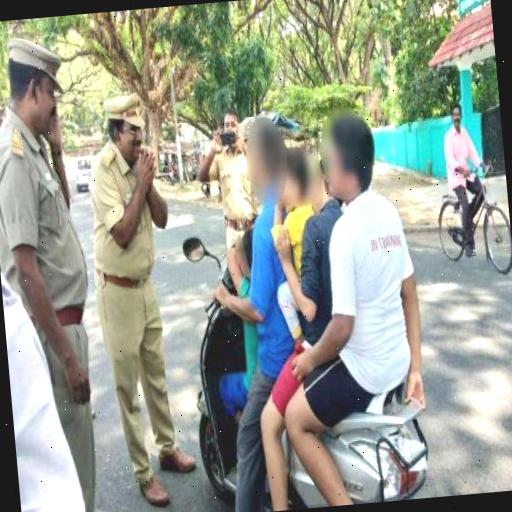helmet: (232, 112, 287, 206)
triple riding: (230, 100, 439, 393)
